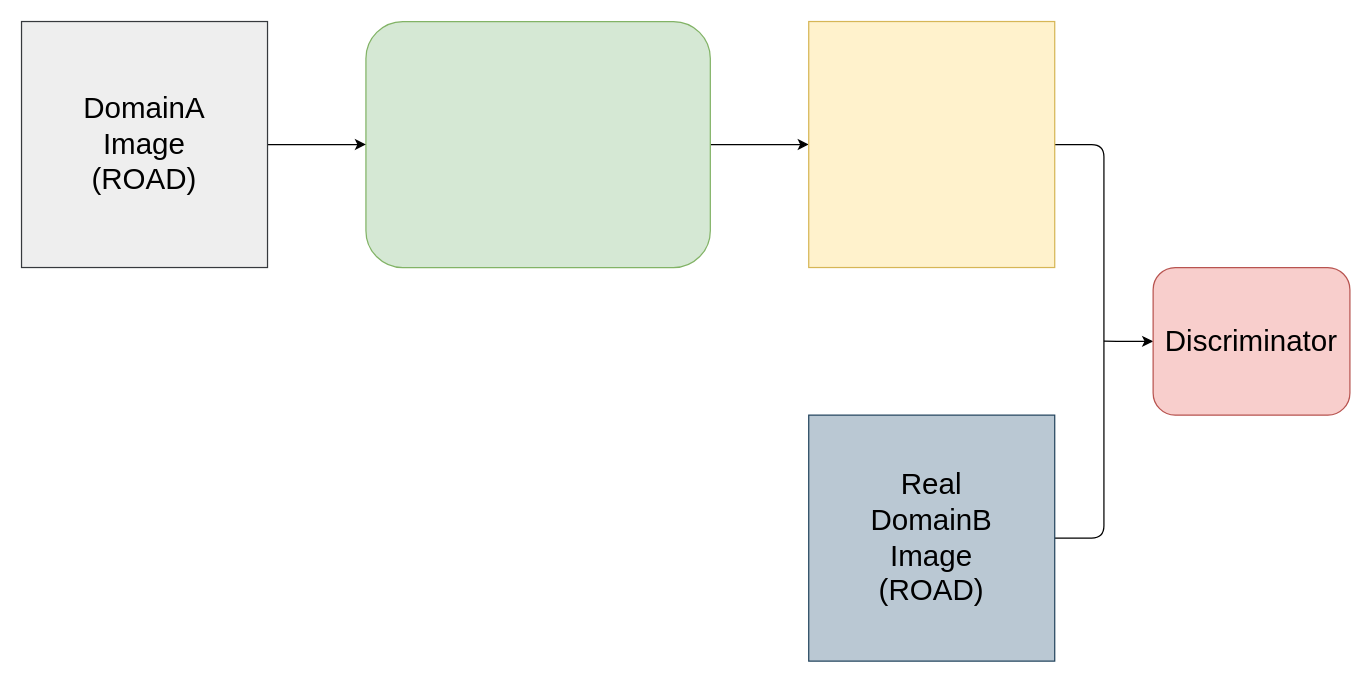
Some shapes in this 1371 by 683 pixel diagram are drawn without their labels. The shapes that lost their labels are listed below. From the top down, each one's centre as x and y in pixels, then its label:
At (x=537, y=144): "ROAD pix2pix".
At (x=931, y=144): "Generated DomainB Image (ROAD)".
